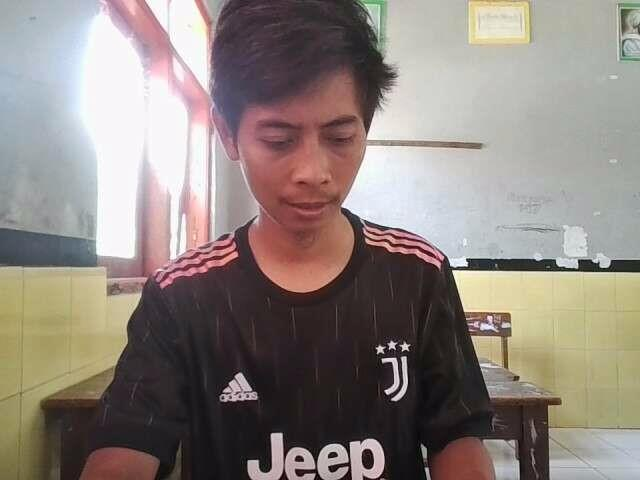good: (64, 0, 513, 480)
